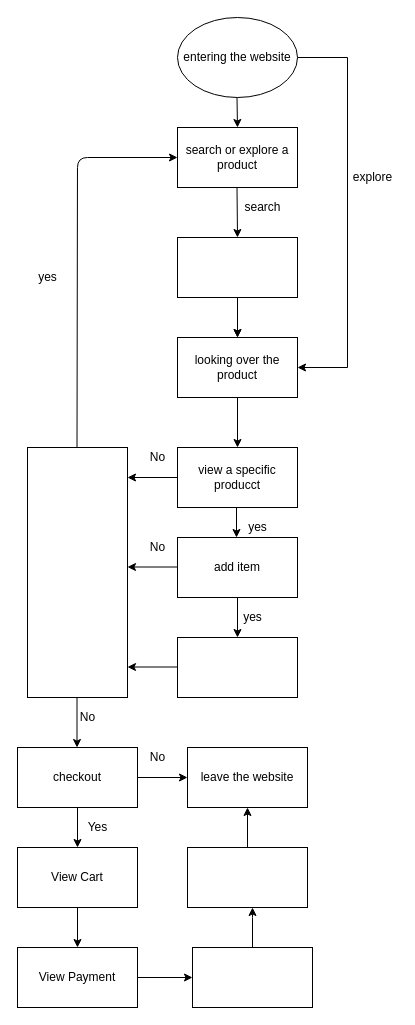
The diagram is 415 pixels wide and 1025 high, and some of its shapes have lost their labels. Each missing label, with the centre of its shape:
"confirm to add" goes at point (237, 667).
"continue shopping" goes at point (77, 572).
"input payment info" goes at point (252, 977).
"input to the website" goes at point (237, 267).
"order confimation and receive an email" goes at point (247, 877).
